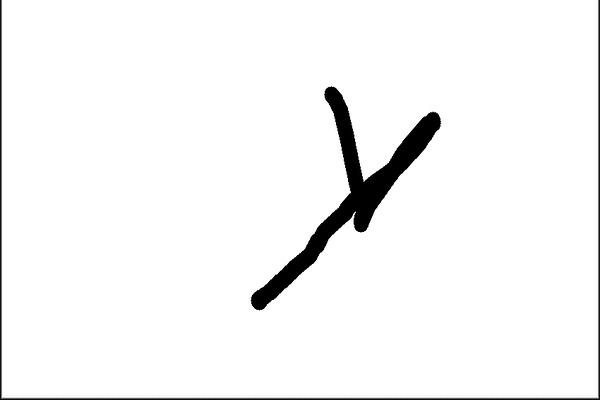Y: (237, 79, 467, 313)
